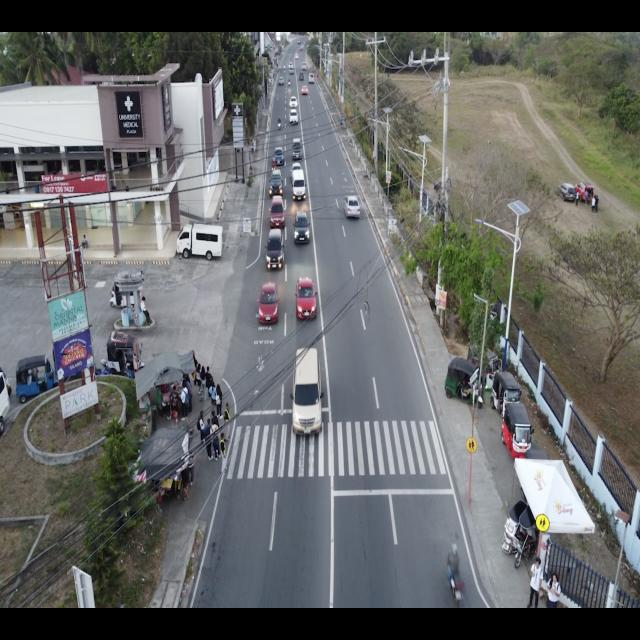car: (290, 346, 324, 438), (176, 222, 224, 262), (255, 280, 281, 326), (294, 276, 318, 322), (264, 227, 285, 271), (268, 194, 286, 231), (292, 210, 311, 244), (291, 169, 307, 201), (574, 180, 594, 203), (344, 195, 362, 219), (268, 173, 284, 199), (557, 182, 576, 203), (291, 142, 304, 161), (273, 149, 285, 166), (289, 108, 299, 124), (289, 95, 298, 109), (300, 85, 308, 95), (278, 76, 284, 86), (309, 73, 314, 84), (298, 72, 304, 81), (302, 61, 306, 71)
motorcycle: (500, 499, 539, 567), (501, 401, 534, 466), (444, 357, 484, 409), (444, 542, 466, 608), (490, 372, 522, 417), (277, 116, 282, 130), (288, 78, 290, 86)
person: (526, 556, 544, 609), (545, 572, 561, 608), (210, 418, 222, 462), (179, 382, 191, 423), (218, 432, 228, 476), (223, 401, 233, 444), (196, 409, 207, 446), (140, 294, 152, 327), (215, 383, 224, 422), (208, 381, 218, 412), (195, 362, 203, 397), (80, 234, 88, 250), (584, 188, 588, 207), (575, 190, 579, 207)
